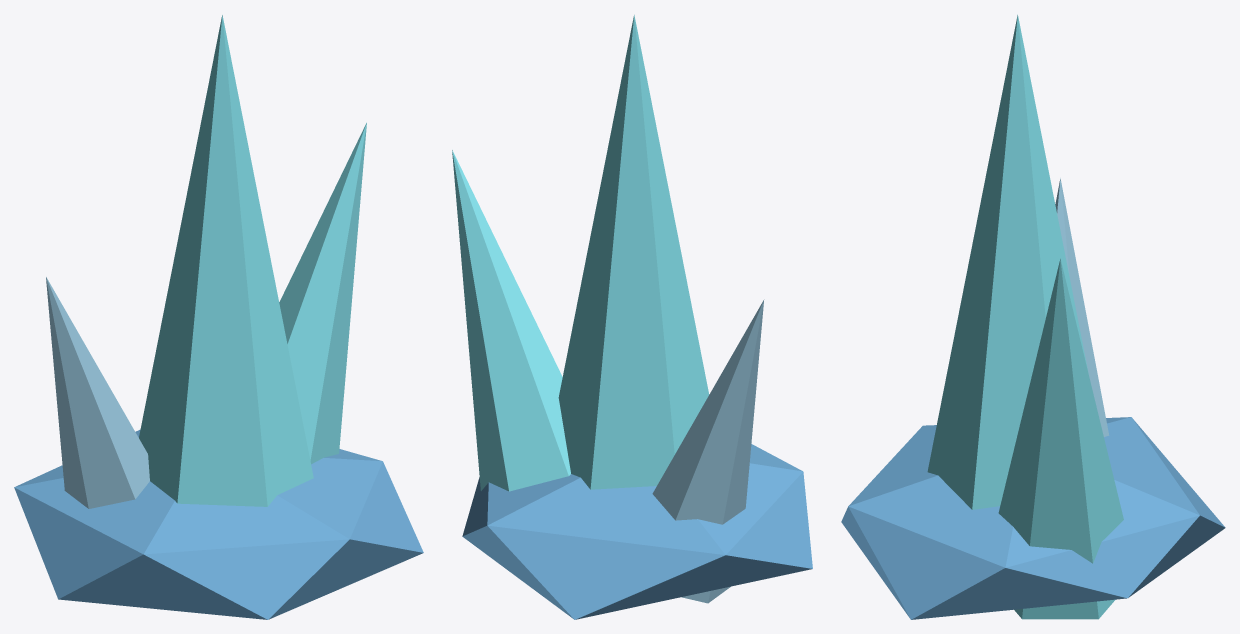
Rendered from crystal_cluster.fbx.
3 renders of one model, left to right at view 1: azimuth 30°, elevation 25°; view 2: azimuth 150°, elevation 25°; view 3: azimuth 270°, elevation 25°, orthographic. The views are drawn at different scales.
Visible parts, largest first — view 1: crystal_cluster; view 2: crystal_cluster; view 3: crystal_cluster.
Boxes of the visible parts, box(x1,y1,x2,y2) form: crystal_cluster: box(14, 15, 423, 619); crystal_cluster: box(452, 15, 812, 619); crystal_cluster: box(841, 14, 1225, 619).
Bounding box in the file's own units: 0.9169 × 1.47 × 0.9008.
